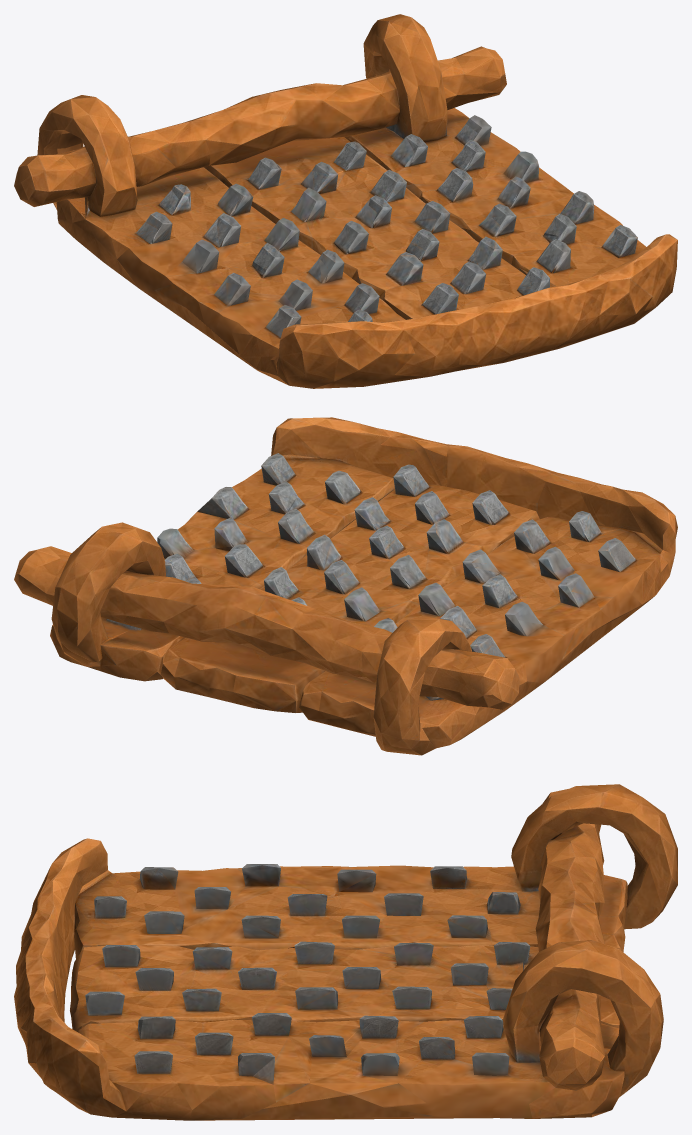
The model's file is threshing-sledge.glb.
3 renders of one model, top to bottom at view 1: azimuth 30°, elevation 25°; view 2: azimuth 150°, elevation 25°; view 3: azimuth 270°, elevation 25°, orthographic. The views are drawn at different scales.
Size of the model in its own units: 1.8 by 0.4664 by 1.9.
1 material, 1 textured.
